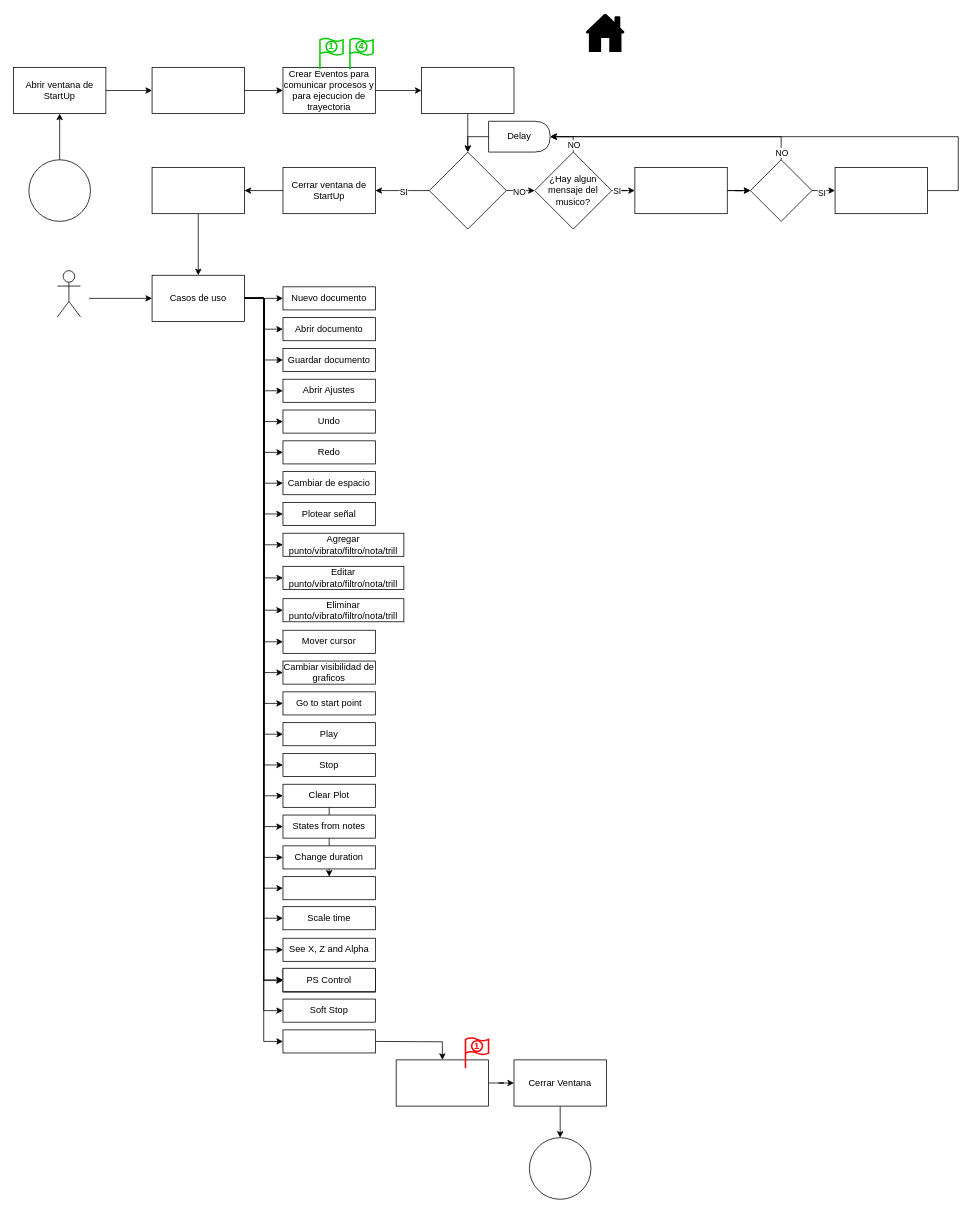
The diagram is 978 pixels wide and 1213 high, and some of its shapes have lost their labels. Here are the shapes that lost their labels. From the top down, the centre of each, then its label:
At point (604, 32): "Inicio".
At point (197, 90): "Crea Shared Data".
At point (467, 90): "Crear Musico".
At point (59, 190): "Start".
At point (197, 190): "Abrir ventana principal".
At point (467, 190): "¿Estan listos todos los dispositivos?".
At point (680, 190): "Leer el mensaje".
At point (781, 190): "¿Avisa que un dispositivo esta listo?".
At point (880, 190): "Sumar contador".
At point (68, 293): "Actor".
At point (328, 888): "Add correction".
At point (328, 1041): "Close Window".
At point (442, 1082): "Despejar Evento 1".
At point (560, 1168): "End".
